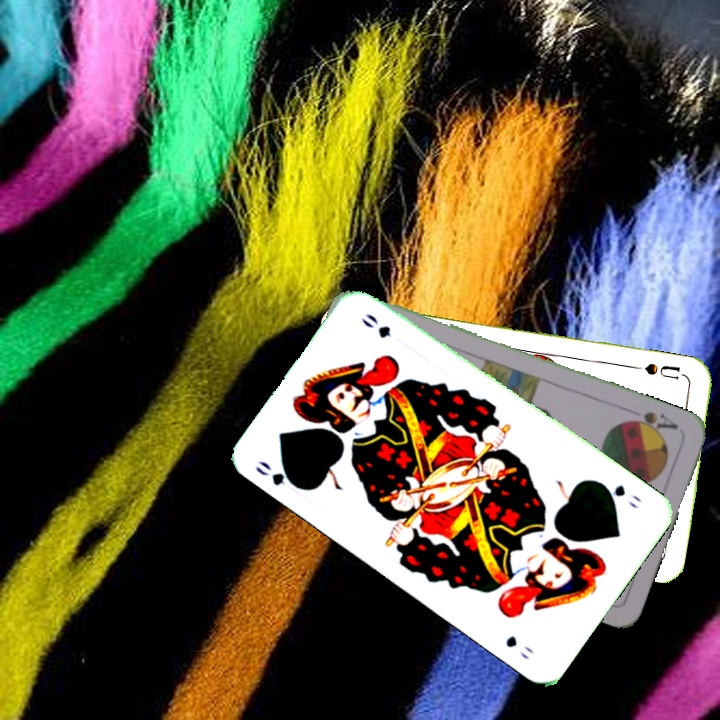GO: (251, 456, 306, 493), (595, 478, 644, 512)
SA: (623, 407, 681, 437)
SU: (640, 359, 690, 382)
